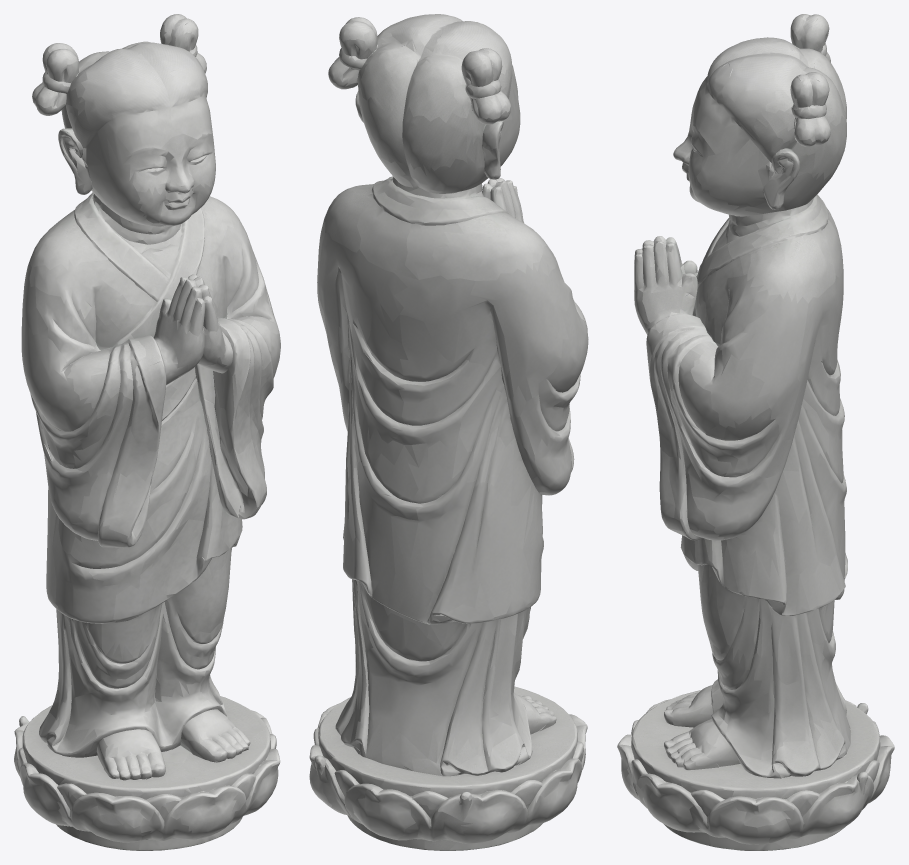
The model's file is Meshy_AI_Korean_Buddhist_white_1117015943_texture.glb.
The picture shows the model from 3 angles, left to right: view 1: azimuth 30°, elevation 25°; view 2: azimuth 150°, elevation 25°; view 3: azimuth 270°, elevation 25°; orthographic projection. The views are drawn at different scales.
Visible parts, largest first — view 1: output_unwrapped; view 2: output_unwrapped; view 3: output_unwrapped.
Part boxes in pixels (box(x1,y1,x2,y2)): output_unwrapped: box(14, 14, 280, 850); output_unwrapped: box(309, 14, 588, 850); output_unwrapped: box(617, 14, 894, 850).
Bounding box in the file's own units: 0.6224 × 1.9 × 0.625.
1 material, 1 textured.
